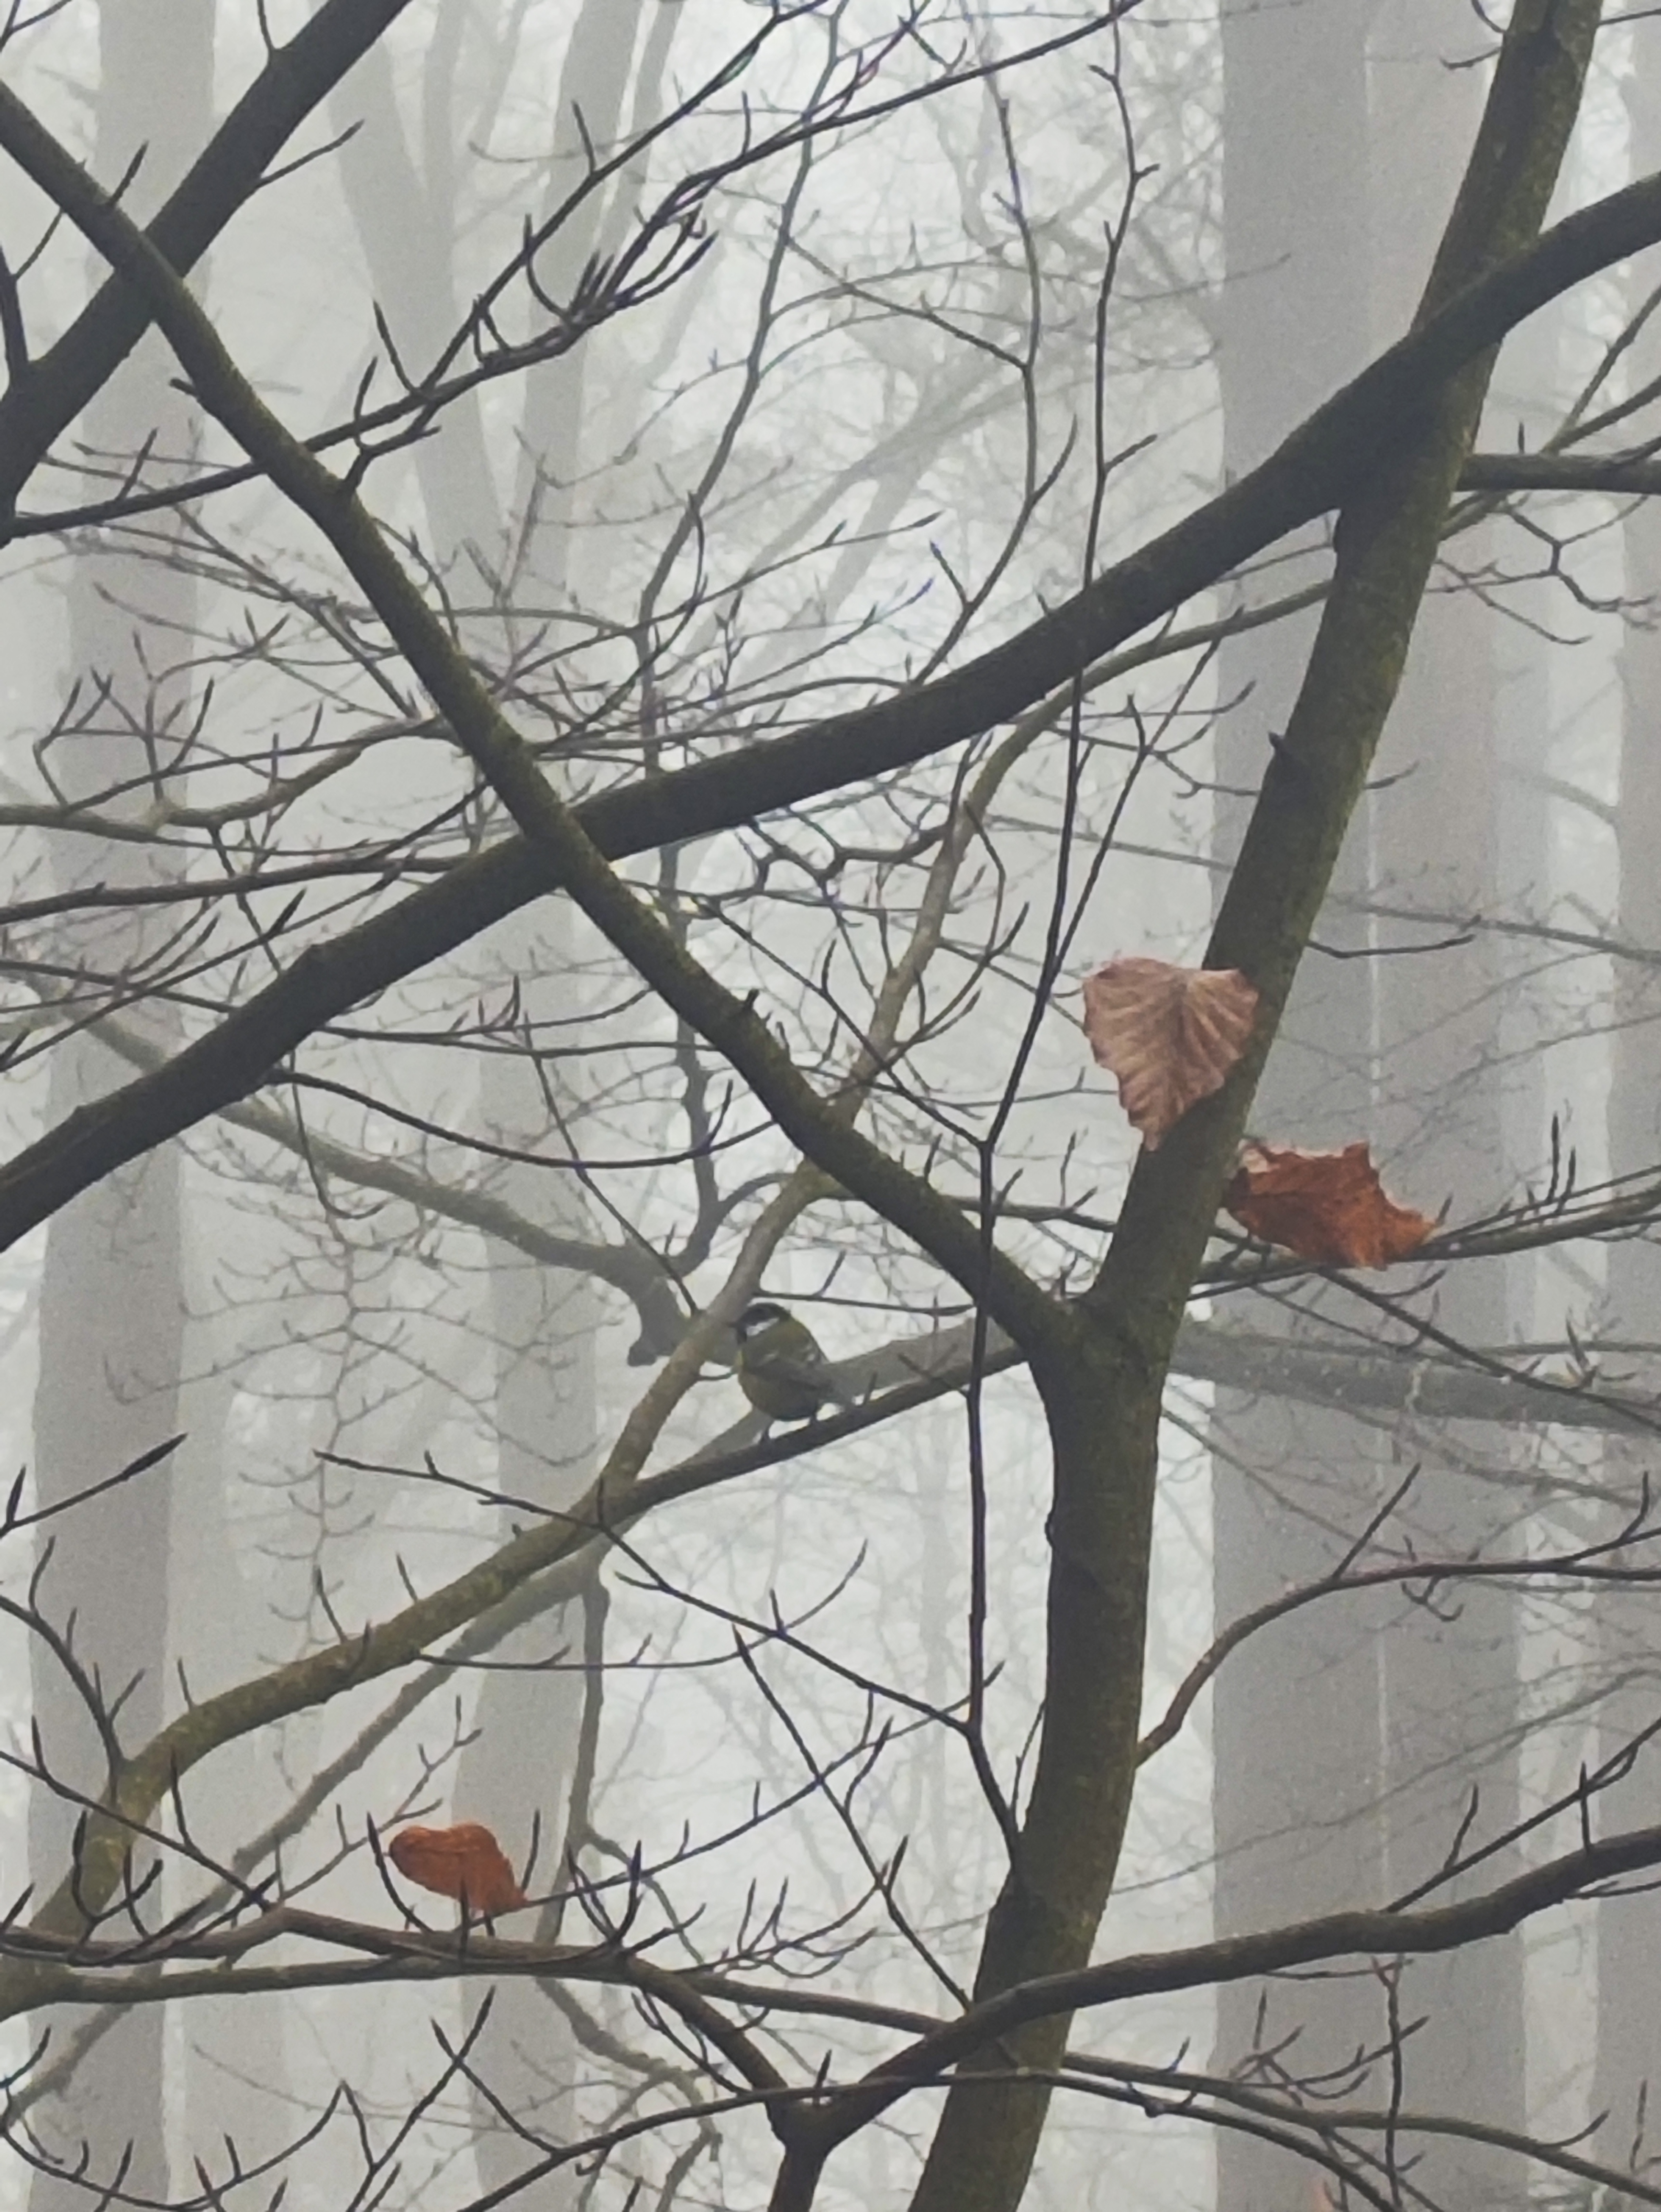bird: (715, 1273, 876, 1453)
